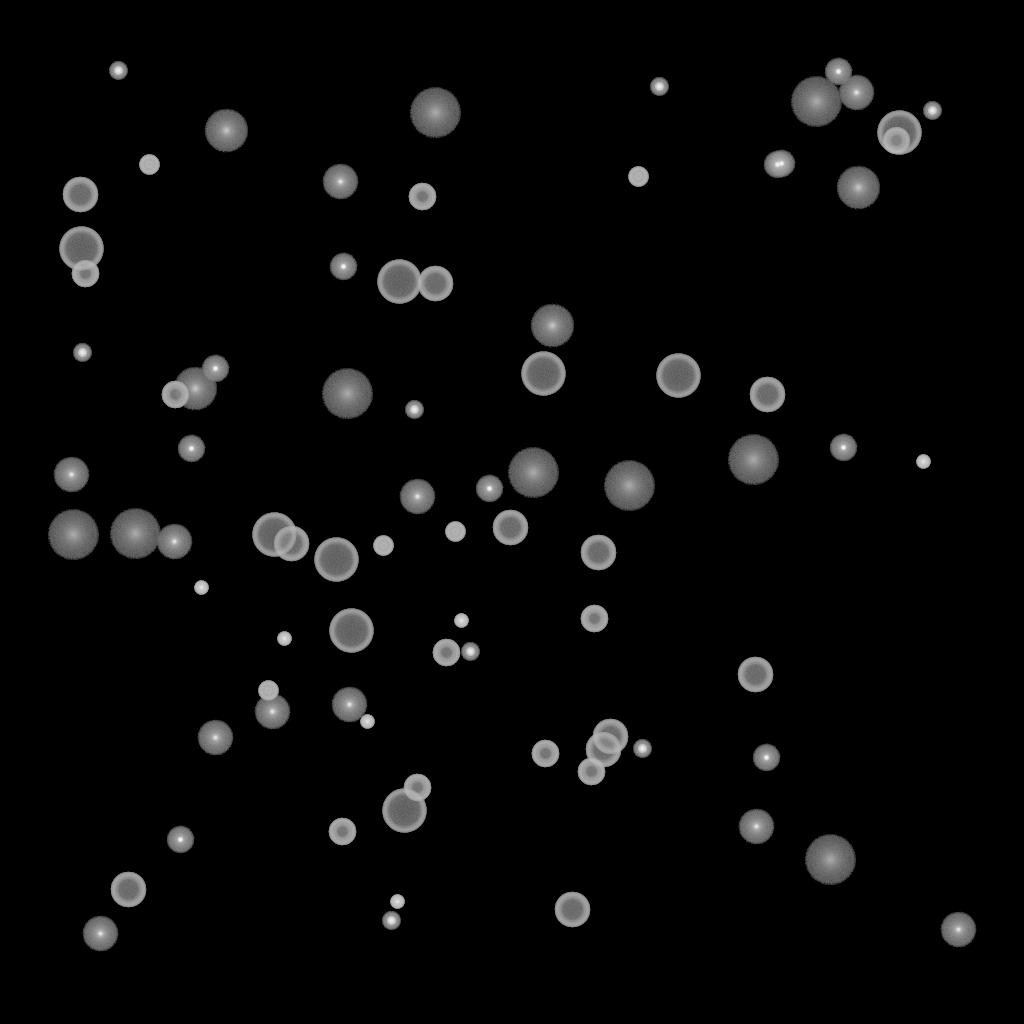depth:-10: (329, 253, 357, 281), (763, 151, 791, 179), (201, 355, 229, 383), (177, 435, 205, 463), (475, 475, 503, 503), (752, 744, 780, 772), (767, 150, 795, 178), (166, 826, 194, 854), (824, 58, 852, 86), (829, 434, 857, 462)
depth:-20: (461, 643, 479, 661), (109, 62, 127, 80), (405, 401, 423, 419), (382, 912, 400, 930), (923, 102, 941, 120), (73, 344, 91, 362), (633, 740, 651, 758), (650, 78, 668, 96)
depth:-30: (360, 715, 374, 729), (916, 455, 930, 469), (277, 632, 291, 646), (194, 581, 208, 595), (454, 614, 468, 628), (390, 895, 404, 909)
depth:-40: (373, 536, 393, 556), (139, 155, 159, 175), (445, 522, 465, 542), (258, 681, 278, 701), (628, 167, 648, 187)
depth:-50: (580, 605, 608, 633), (408, 183, 436, 211), (882, 127, 910, 155), (531, 740, 559, 768), (328, 818, 356, 846), (71, 260, 99, 288), (577, 758, 605, 786), (403, 774, 431, 802), (432, 639, 460, 667), (161, 381, 189, 409)
depth:-60: (492, 510, 528, 546), (62, 177, 98, 213), (737, 657, 773, 693), (417, 266, 453, 302), (273, 526, 309, 562), (580, 535, 616, 571), (554, 892, 590, 928), (592, 719, 628, 755), (585, 732, 621, 768), (749, 377, 785, 413), (110, 872, 146, 908)
depth:-70: (314, 538, 358, 582), (59, 227, 103, 271), (377, 260, 421, 304), (656, 354, 700, 398), (382, 789, 426, 833), (521, 352, 565, 396), (877, 111, 921, 155), (329, 609, 373, 653), (252, 513, 296, 557)
depth:0: (399, 479, 435, 515), (940, 912, 976, 948), (156, 524, 192, 560), (322, 164, 358, 200), (82, 916, 118, 952), (197, 720, 233, 756), (254, 694, 290, 730), (331, 687, 367, 723), (53, 457, 89, 493), (738, 809, 774, 845), (838, 75, 874, 111)
depth:10: (173, 367, 217, 411), (204, 109, 248, 153), (530, 304, 574, 348), (836, 166, 880, 210)
depth:20: (47, 510, 99, 560), (409, 88, 461, 138), (603, 461, 655, 511), (321, 369, 373, 419), (804, 835, 856, 885), (727, 435, 779, 485), (507, 448, 559, 498), (109, 509, 161, 559), (790, 77, 842, 127)
